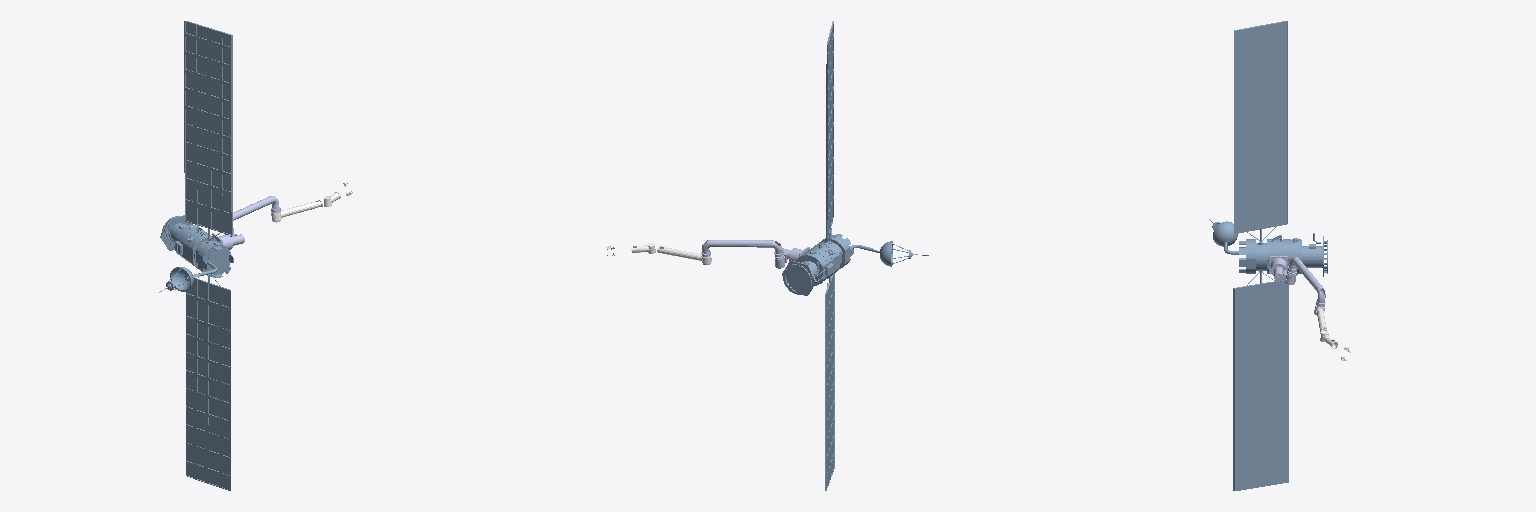
URDF robot description (design__starlink_sldasm9):
<?xml version='1.0' encoding='utf-8'?>
<robot name="design__starlink_sldasm9">
  <link name="base_link">
    <visual>
      <geometry>
        <mesh filename="../satellites/design/satellite.stl" />
      </geometry>
      <material name="satellite_grey">
        <color rgba=".6 .7 .8 1" />
      </material>
    </visual>
    <collision>
      <geometry>
        <mesh filename="../satellites/design/satellite.stl" />
      </geometry>
    </collision>
  </link>
  <link name="design_mount" />
  <joint name="satellite_mount_fixed" type="fixed">
    <parent link="base_link" />
    <child link="design_mount" />
    <origin xyz="0.26368193436445714 0.52 0.0" rpy="3.141592653589793 -1.5707963267948966 0.0" />
  </joint>
  <link name="mount_support">
    <visual>
      <geometry>
        <mesh filename="../satellites/design/mount_support.stl" />
      </geometry>
      <material name="mount_green">
        <color rgba=".2 .7 .35 1" />
      </material>
    </visual>
    <collision>
      <geometry>
        <mesh filename="../satellites/design/mount_support.stl" />
      </geometry>
    </collision>
  </link>
  <joint name="support_fixed" type="fixed">
    <parent link="design_mount" />
    <child link="mount_support" />
    <origin xyz="0 0 0" rpy="0 0 0" />
  </joint>
  <joint name="arm_adapter_fixed" type="fixed">
    <parent link="design_mount" />
    <child link="starlink_space_manipulator_base_link" />
    <origin xyz="0.009087204933166504 0.008519247174263 0.15000000141561035" rpy="-1.5707963267948966 0 0" />
  </joint>
  <link name="starlink_space_manipulator_base_link">
    <inertial>
      <origin xyz="-0.00908719924946466 0.0225428225681148 -0.00851924929637313" rpy="0 0 0" />
      <mass value="8.66024015898073" />
      <inertia ixx="0.0960303512697639" ixy="1.65511904636803E-18" ixz="6.22039820639877E-19" iyy="0.103454922260914" iyz="-9.68471289978311E-19" izz="0.0960303512697639" />
    </inertial>
    <visual>
      <origin xyz="0 0 0" rpy="0 0 0" />
      <geometry>
        <mesh filename="../arms/starlink_sldasm9/meshes/starlink_space_manipulator_base_link.STL" />
      </geometry>
      <material name="">
        <color rgba="0.792156862745098 0.819607843137255 0.933333333333333 1" />
      </material>
    </visual>
    <collision>
      <origin xyz="0 0 0" rpy="0 0 0" />
      <geometry>
        <mesh filename="../arms/starlink_sldasm9/meshes/starlink_space_manipulator_base_link.STL" />
      </geometry>
    </collision>
  </link>
  <link name="starlink_space_manipulator_Shoulder_link_1">
    <inertial>
      <origin xyz="-0.000399471745595769 -0.100006574194712 -0.17423940484461" rpy="0 0 0" />
      <mass value="5.16309216784981" />
      <inertia ixx="0.0524543852135592" ixy="0.00348154867667969" ixz="6.96526910910627E-05" iyy="0.0306595326318824" iyz="-0.00056674368052247" izz="0.0439979075615329" />
    </inertial>
    <visual>
      <origin xyz="0 0 0" rpy="0 0 0" />
      <geometry>
        <mesh filename="../arms/starlink_sldasm9/meshes/starlink_space_manipulator_Shoulder_link_1.STL" />
      </geometry>
      <material name="">
        <color rgba="0.792156862745098 0.819607843137255 0.933333333333333 1" />
      </material>
    </visual>
    <collision>
      <origin xyz="0 0 0" rpy="0 0 0" />
      <geometry>
        <mesh filename="../arms/starlink_sldasm9/meshes/starlink_space_manipulator_Shoulder_link_1.STL" />
      </geometry>
    </collision>
  </link>
  <joint name="starlink_space_manipulator_Shoulder_link_1_yaw" type="revolute">
    <origin xyz="-0.0090872 -0.065 -0.0085192" rpy="1.5708 -0.15574 3.1416" />
    <parent link="starlink_space_manipulator_base_link" />
    <child link="starlink_space_manipulator_Shoulder_link_1" />
    <axis xyz="0 0 -1" />
    <limit lower="-3.14" upper="3.14" effort="0" velocity="0" />
  </joint>
  <link name="starlink_space_manipulator_Upper_arm_Link_1">
    <inertial>
      <origin xyz="0.402106341472203 -0.696465272634528 -0.170177523085579" rpy="0 0 0" />
      <mass value="5.05309869040685" />
      <inertia ixx="0.388719013133801" ixy="0.210155896498943" ixz="9.30829370680679E-08" iyy="0.146049057575642" iyz="1.71830458004218E-07" izz="0.500677708275447" />
    </inertial>
    <visual>
      <origin xyz="0 0 0" rpy="0 0 0" />
      <geometry>
        <mesh filename="../arms/starlink_sldasm9/meshes/starlink_space_manipulator_Upper_arm_Link_1.STL" />
      </geometry>
      <material name="">
        <color rgba="0.792156862745098 0.819607843137255 0.933333333333333 1" />
      </material>
    </visual>
    <collision>
      <origin xyz="0 0 0" rpy="0 0 0" />
      <geometry>
        <mesh filename="../arms/starlink_sldasm9/meshes/starlink_space_manipulator_Upper_arm_Link_1.STL" />
      </geometry>
    </collision>
  </link>
  <joint name="starlink_space_manipulator_Upper_arm_Link_1_roll" type="revolute">
    <origin xyz="0 -0.2 -0.18" rpy="1.5708 0.90646 1.5708" />
    <parent link="starlink_space_manipulator_Shoulder_link_1" />
    <child link="starlink_space_manipulator_Upper_arm_Link_1" />
    <axis xyz="0 0 -1" />
    <limit lower="-2" upper="1.5" effort="0" velocity="0" />
  </joint>
  <link name="starlink_space_manipulator_Mid_arm_Link_1">
    <inertial>
      <origin xyz="-0.000406052776441013 0.317722269561105 0.0155331755135703" rpy="0 0 0" />
      <mass value="1.57635531881168" />
      <inertia ixx="0.133610363618846" ixy="5.33750993405138E-05" ixz="-3.60473795202962E-09" iyy="0.00502119434334708" iyz="-2.514275749911E-05" izz="0.134586018527477" />
    </inertial>
    <visual>
      <origin xyz="0 0 0" rpy="0 0 0" />
      <geometry>
        <mesh filename="../arms/starlink_sldasm9/meshes/starlink_space_manipulator_Mid_arm_Link_1.STL" />
      </geometry>
      <material name="">
        <color rgba="1 1 1 1" />
      </material>
    </visual>
    <collision>
      <origin xyz="0 0 0" rpy="0 0 0" />
      <geometry>
        <mesh filename="../arms/starlink_sldasm9/meshes/starlink_space_manipulator_Mid_arm_Link_1.STL" />
      </geometry>
    </collision>
  </link>
  <joint name="starlink_space_manipulator_Mid_arm_Link_1_roll" type="revolute">
    <origin xyz="0.599999999999673 -1.03923048454122 0" rpy="-3.14159265358979 0 0.828250280535091" />
    <parent link="starlink_space_manipulator_Upper_arm_Link_1" />
    <child link="starlink_space_manipulator_Mid_arm_Link_1" />
    <axis xyz="0 0 -1" />
    <limit lower="-3.14" upper="3.14" effort="0" velocity="0" />
  </joint>
  <link name="starlink_space_manipulator_Upper_wrist_Link_1">
    <inertial>
      <origin xyz="-0.000400003664721815 -0.201565878030355 -0.00216705855311664" rpy="0 0 0" />
      <mass value="0.994770641034713" />
      <inertia ixx="0.00165409639029414" ixy="-7.59103925411082E-06" ixz="-3.17403155320863E-06" iyy="0.00201437937768072" iyz="2.63246464091218E-06" izz="0.00159638838344539" />
    </inertial>
    <visual>
      <origin xyz="0 0 0" rpy="0 0 0" />
      <geometry>
        <mesh filename="../arms/starlink_sldasm9/meshes/starlink_space_manipulator_Upper_wrist_Link_1.STL" />
      </geometry>
      <material name="">
        <color rgba="0.792156862745098 0.819607843137255 0.933333333333333 1" />
      </material>
    </visual>
    <collision>
      <origin xyz="0 0 0" rpy="0 0 0" />
      <geometry>
        <mesh filename="../arms/starlink_sldasm9/meshes/starlink_space_manipulator_Upper_wrist_Link_1.STL" />
      </geometry>
    </collision>
  </link>
  <joint name="starlink_space_manipulator_Upper_wrist_Link_1_yaw" type="revolute">
    <origin xyz="-0.00050155183276912 0.686793643713439 0.0155010481432086" rpy="0 -0.0763876794035917 3.14159265358979" />
    <parent link="starlink_space_manipulator_Mid_arm_Link_1" />
    <child link="starlink_space_manipulator_Upper_wrist_Link_1" />
    <axis xyz="0 -1 0" />
    <limit lower="-3.14" upper="3.14" effort="0" velocity="0" />
  </joint>
  <link name="starlink_space_manipulator_Upper_wrist_Link_2">
    <inertial>
      <origin xyz="8.45304168883843E-08 0.0848318719623631 -0.00515657391755576" rpy="0 0 0" />
      <mass value="1.03716823037577" />
      <inertia ixx="0.0100970561498589" ixy="1.32295633551837E-09" ixz="-9.43675929999229E-09" iyy="0.00222325407426665" iyz="-2.08772874866187E-06" izz="0.0105840577017538" />
    </inertial>
    <visual>
      <origin xyz="0 0 0" rpy="0 0 0" />
      <geometry>
        <mesh filename="../arms/starlink_sldasm9/meshes/starlink_space_manipulator_Upper_wrist_Link_2.STL" />
      </geometry>
      <material name="">
        <color rgba="1 1 1 1" />
      </material>
    </visual>
    <collision>
      <origin xyz="0 0 0" rpy="0 0 0" />
      <geometry>
        <mesh filename="../arms/starlink_sldasm9/meshes/starlink_space_manipulator_Upper_wrist_Link_2.STL" />
      </geometry>
    </collision>
  </link>
  <joint name="starlink_space_manipulator_Upper_wrist_Link_2_roll" type="revolute">
    <origin xyz="0 -0.30020635628656 0" rpy="-0.0158640776811277 -0.0317448426184613 -2.67805461574742" />
    <parent link="starlink_space_manipulator_Upper_wrist_Link_1" />
    <child link="starlink_space_manipulator_Upper_wrist_Link_2" />
    <axis xyz="0 0 1" />
    <limit lower="-2.5" upper="1.8" effort="0" velocity="0" />
  </joint>
  <link name="starlink__space_manipulator_2F-Body_Link">
    <inertial>
      <origin xyz="0.000132893636818288 -0.122912145301831 0.000141178527731878" rpy="0 0 0" />
      <mass value="2.06098061435798" />
      <inertia ixx="0.00357820981002093" ixy="-9.7173781739015E-06" ixz="-0.000377950837415894" iyy="0.00540179107539635" iyz="3.57093943209629E-06" izz="0.0050632324449311" />
    </inertial>
    <visual>
      <origin xyz="0 0 0" rpy="0 0 0" />
      <geometry>
        <mesh filename="../arms/starlink_sldasm9/meshes/starlink__space_manipulator_2F-Body_Link.STL" />
      </geometry>
      <material name="">
        <color rgba="0.792156862745098 0.819607843137255 0.933333333333333 1" />
      </material>
    </visual>
    <collision>
      <origin xyz="0 0 0" rpy="0 0 0" />
      <geometry>
        <mesh filename="../arms/starlink_sldasm9/meshes/starlink__space_manipulator_2F-Body_Link.STL" />
      </geometry>
    </collision>
  </link>
  <joint name="starlink__space_manipulator_2F-Body_Link_yaw" type="revolute">
    <origin xyz="0 0.34845 -0.0053813" rpy="-3.1416 0.93592 0" />
    <parent link="starlink_space_manipulator_Upper_wrist_Link_2" />
    <child link="starlink__space_manipulator_2F-Body_Link" />
    <axis xyz="0 -1 0" />
    <limit lower="-3.14" upper="3.14" effort="0" velocity="0" />
  </joint>
  <link name="starlink_space_manipulator_Finger1_2_Link">
    <inertial>
      <origin xyz="-0.128379781160824 0.00213384929263816 0.20765530277947" rpy="0 0 0" />
      <mass value="0.164012557851557" />
      <inertia ixx="0.000137377814382494" ixy="5.75324125943043E-07" ixz="1.56204374379134E-05" iyy="0.000128174497717794" iyz="2.8915711708103E-06" izz="5.56877077151319E-05" />
    </inertial>
    <visual>
      <origin xyz="0 0 0" rpy="0 0 0" />
      <geometry>
        <mesh filename="../arms/starlink_sldasm9/meshes/starlink_space_manipulator_Finger1_2_Link.STL" />
      </geometry>
      <material name="">
        <color rgba="1 1 1 1" />
      </material>
    </visual>
    <collision>
      <origin xyz="0 0 0" rpy="0 0 0" />
      <geometry>
        <mesh filename="../arms/starlink_sldasm9/meshes/starlink_space_manipulator_Finger1_2_Link.STL" />
      </geometry>
    </collision>
  </link>
  <joint name="starlink_space_manipulator_Finger1_2_Link_roll" type="prismatic">
    <origin xyz="-0.2017 -0.10916 -0.04801" rpy="-1.5708 0.22747 -3.1416" />
    <parent link="starlink__space_manipulator_2F-Body_Link" />
    <child link="starlink_space_manipulator_Finger1_2_Link" />
    <axis xyz="-1 0 0" />
    <limit lower="0.0" upper="0.04" effort="20" velocity="0" />
  </joint>
  <link name="starlink_space_manipulator_Finger2_1_Link">
    <inertial>
      <origin xyz="-0.128379783275286 0.0021338497374519 0.207655316264438" rpy="0 0 0" />
      <mass value="0.164012525176243" />
      <inertia ixx="0.000137377758573247" ixy="5.75327227385201E-07" ixz="1.56204303396715E-05" iyy="0.00012817444752134" iyz="2.89153901545968E-06" izz="5.5687711839857E-05" />
    </inertial>
    <visual>
      <origin xyz="0 0 0" rpy="0 0 0" />
      <geometry>
        <mesh filename="../arms/starlink_sldasm9/meshes/starlink_space_manipulator_Finger2_1_Link.STL" />
      </geometry>
      <material name="">
        <color rgba="1 1 1 1" />
      </material>
    </visual>
    <collision>
      <origin xyz="0 0 0" rpy="0 0 0" />
      <geometry>
        <mesh filename="../arms/starlink_sldasm9/meshes/starlink_space_manipulator_Finger2_1_Link.STL" />
      </geometry>
    </collision>
  </link>
  <joint name="starlink_space_manipulator_Finger2_1_Link_roll" type="prismatic">
    <origin xyz="0.20865 -0.10916 0.049619" rpy="1.5708 -0.22747 0" />
    <parent link="starlink__space_manipulator_2F-Body_Link" />
    <child link="starlink_space_manipulator_Finger2_1_Link" />
    <axis xyz="-1 0 0" />
    <limit lower="0.0" upper="0.04" effort="20" velocity="0" />
  </joint>
</robot>

--- What the picture shows (computed from the rendered views, not written in the file) ---
3 views of the same robot in one strip: view 1: azimuth 30°, elevation 25°; view 2: azimuth 150°, elevation 25°; view 3: azimuth 270°, elevation 25° (orthographic).
Robot: design__starlink_sldasm9 — 12 links, 11 joints (6 revolute, 2 prismatic, 3 fixed); root link base_link; default pose: every joint at zero.
Links seen in each view (by area): view 1: base_link; view 2: base_link, starlink_space_manipulator_Upper_arm_Link_1; view 3: base_link.
Boxes of the visible links, box(x1,y1,x2,y2) form: base_link: box(159, 21, 233, 490); base_link: box(782, 21, 928, 490); starlink_space_manipulator_Upper_arm_Link_1: box(701, 240, 782, 264); base_link: box(1209, 21, 1327, 490).
Size in the robot's own frame: 4.81 by 2.26 by 8 metres.
8 mesh visuals loaded from 11 distinct referenced files (8 binary STL); not drawn: 3 (reference not matched to a file when rendering).
